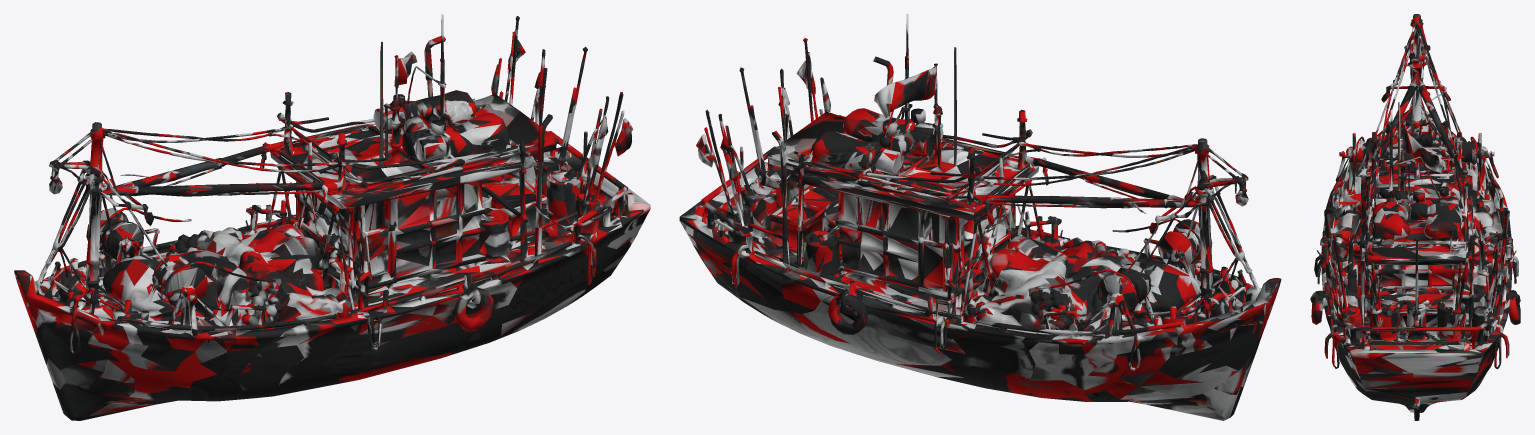
Rendered from PV_FishingBoat.fbx.
The picture shows the model from 3 angles, left to right: view 1: azimuth 30°, elevation 25°; view 2: azimuth 150°, elevation 25°; view 3: azimuth 270°, elevation 25°; orthographic projection. The views are drawn at different scales.
Parts seen in each view (by area): view 1: PV_FishingBoat_LOD0; view 2: PV_FishingBoat_LOD0; view 3: PV_FishingBoat_LOD0.
Part boxes in pixels (bbox=[...]): PV_FishingBoat_LOD0: bbox=[14, 14, 650, 420]; PV_FishingBoat_LOD0: bbox=[679, 14, 1281, 420]; PV_FishingBoat_LOD0: bbox=[1310, 14, 1520, 420].
Size of what is drawn, in the model's own units: 8.99 by 4.87 by 3.48.
